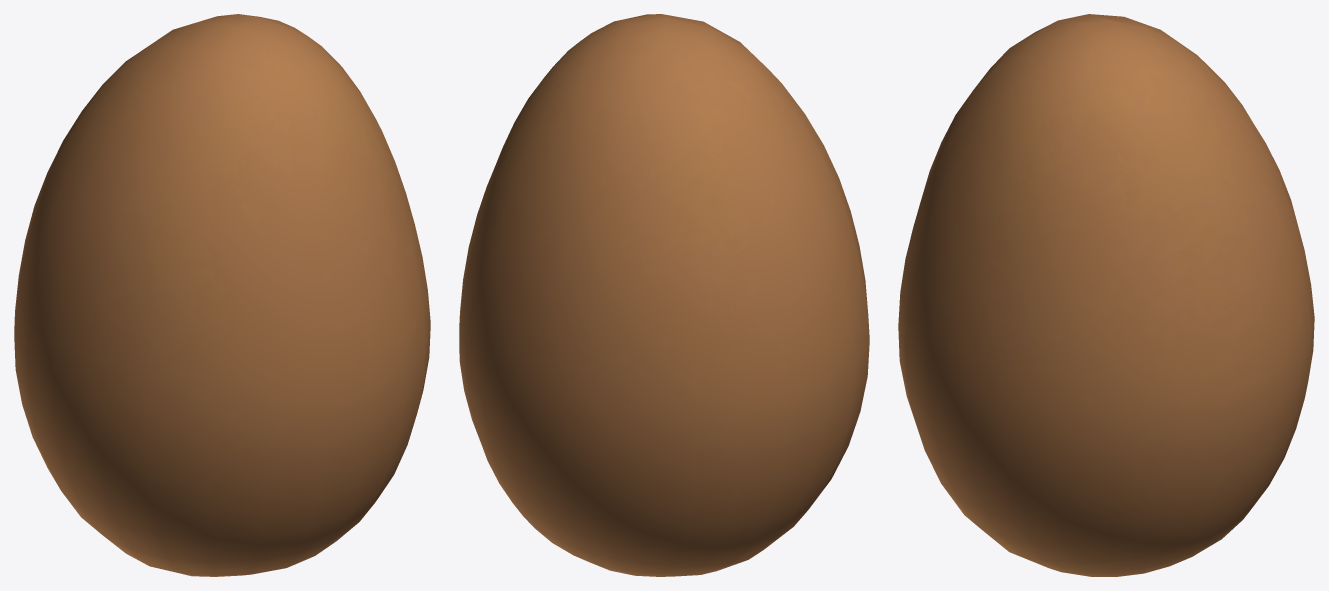
Rendered from egg.glb.
The picture shows the model from 3 angles, left to right: view 1: azimuth 30°, elevation 25°; view 2: azimuth 150°, elevation 25°; view 3: azimuth 270°, elevation 25°; orthographic projection.
Visible parts, largest first — view 1: tripo_node_77079bf8; view 2: tripo_node_77079bf8; view 3: tripo_node_77079bf8.
Boxes of the visible parts, x1,y1,x2,y2 form: tripo_node_77079bf8: (14,14,430,576); tripo_node_77079bf8: (459,14,869,576); tripo_node_77079bf8: (898,14,1314,576).
Bounding box in the file's own units: 0.1133 × 0.16 × 0.1135.
1 material, 1 textured.
